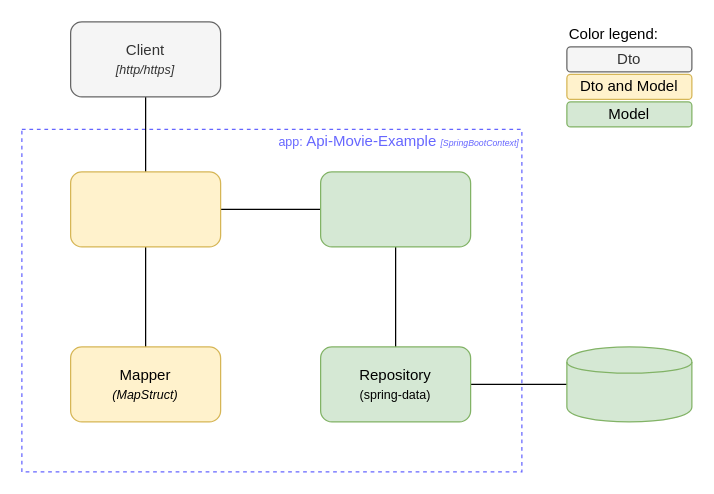
Image size: 714x494. Some labels were removed from this diagram. The shapes that lost their labels are listed below. From the top down, each one's centre as x and y in pixels, then its label:
the point at 145,209: Controller + ExceptionHandler + Validators
the point at 395,209: Service
the point at 629,384: Mongo [Movies]
